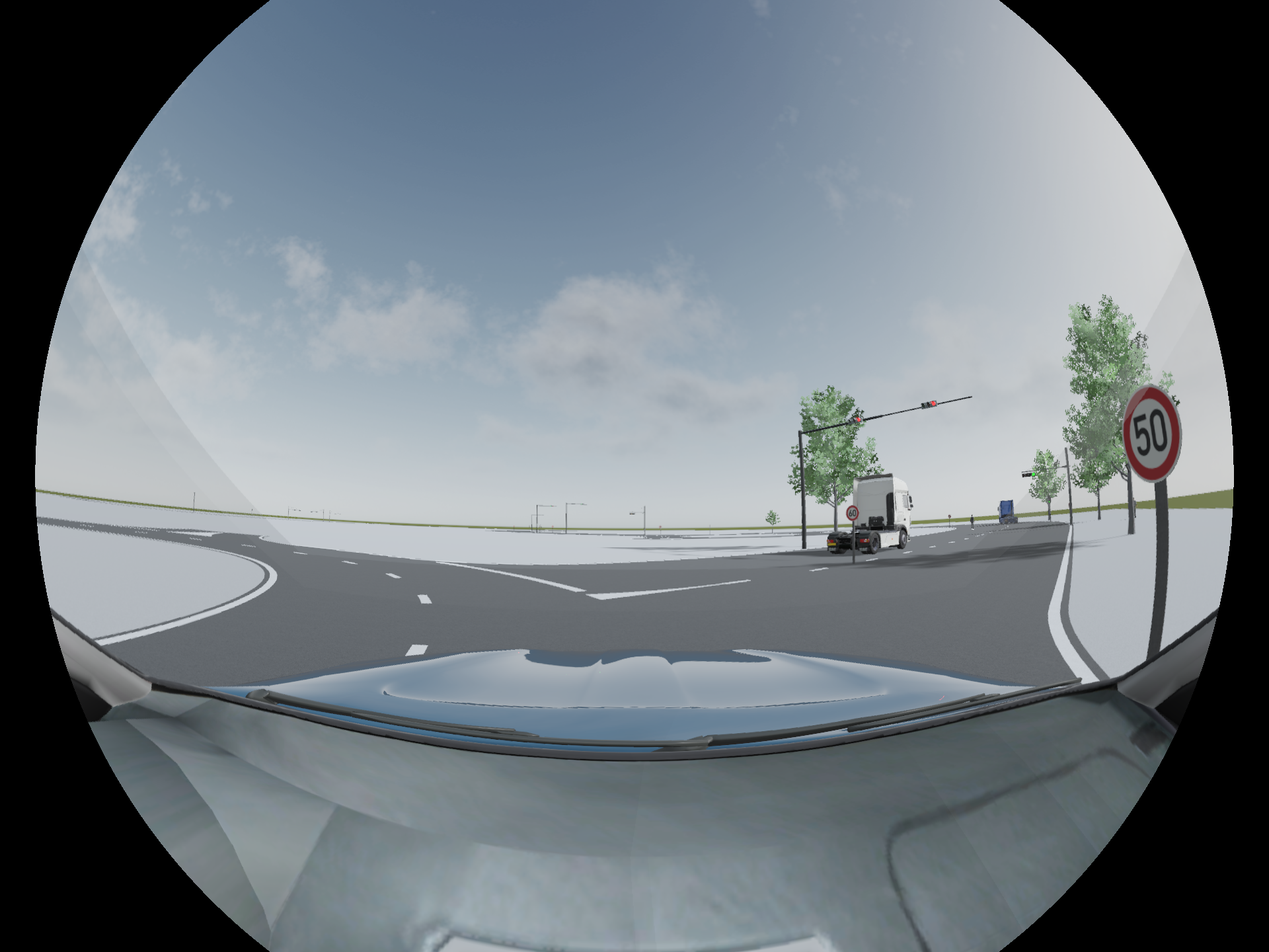Red Light: (921, 399, 938, 409)
Speed Limit 50: (1123, 386, 1183, 482)
Speed Limit 60: (846, 505, 859, 520)
